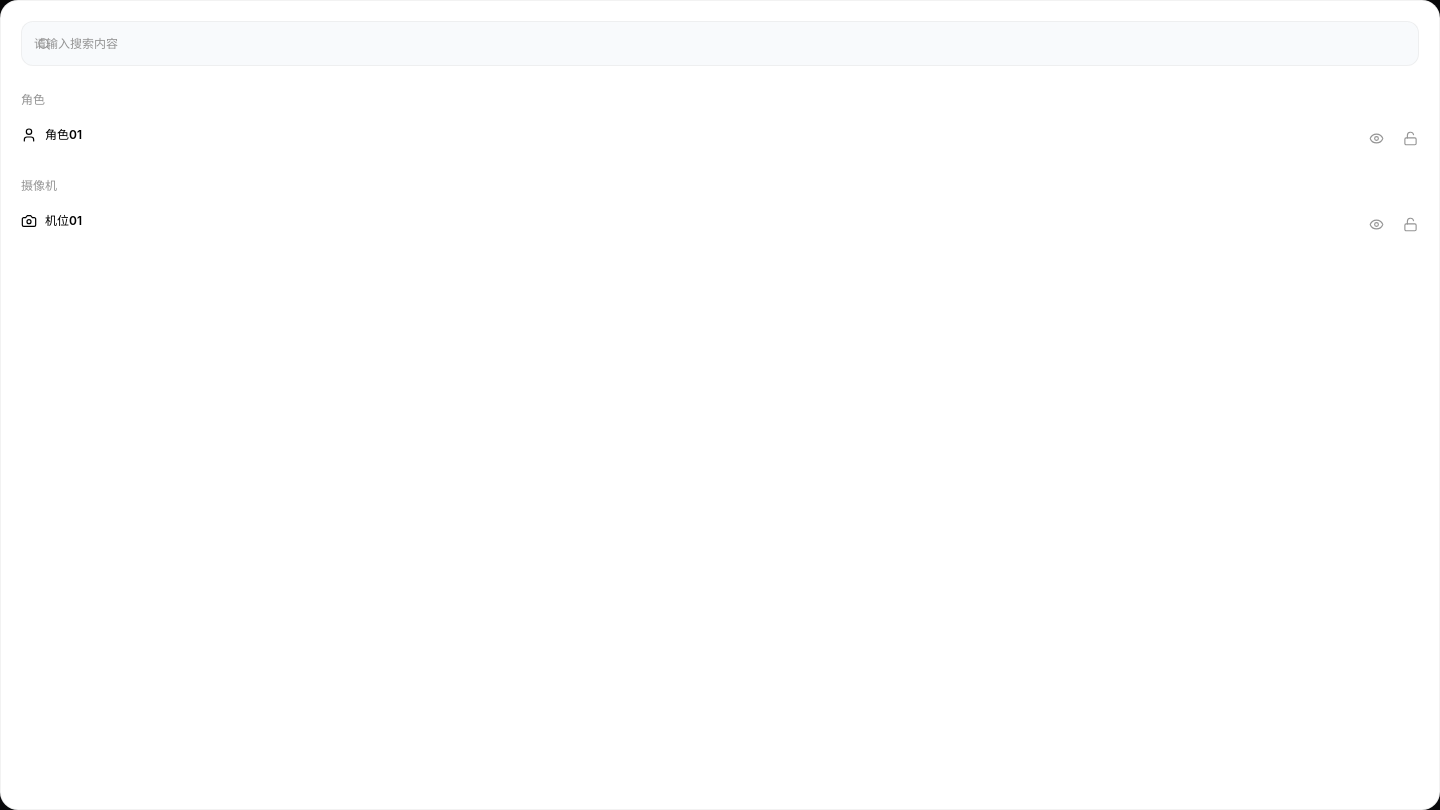
filters the object tree by keyword
The width and height of the screenshot is (1440, 810).
Type "机位" into the field named "搜索场景内容" at (720, 44), box [21,21,1419,66]
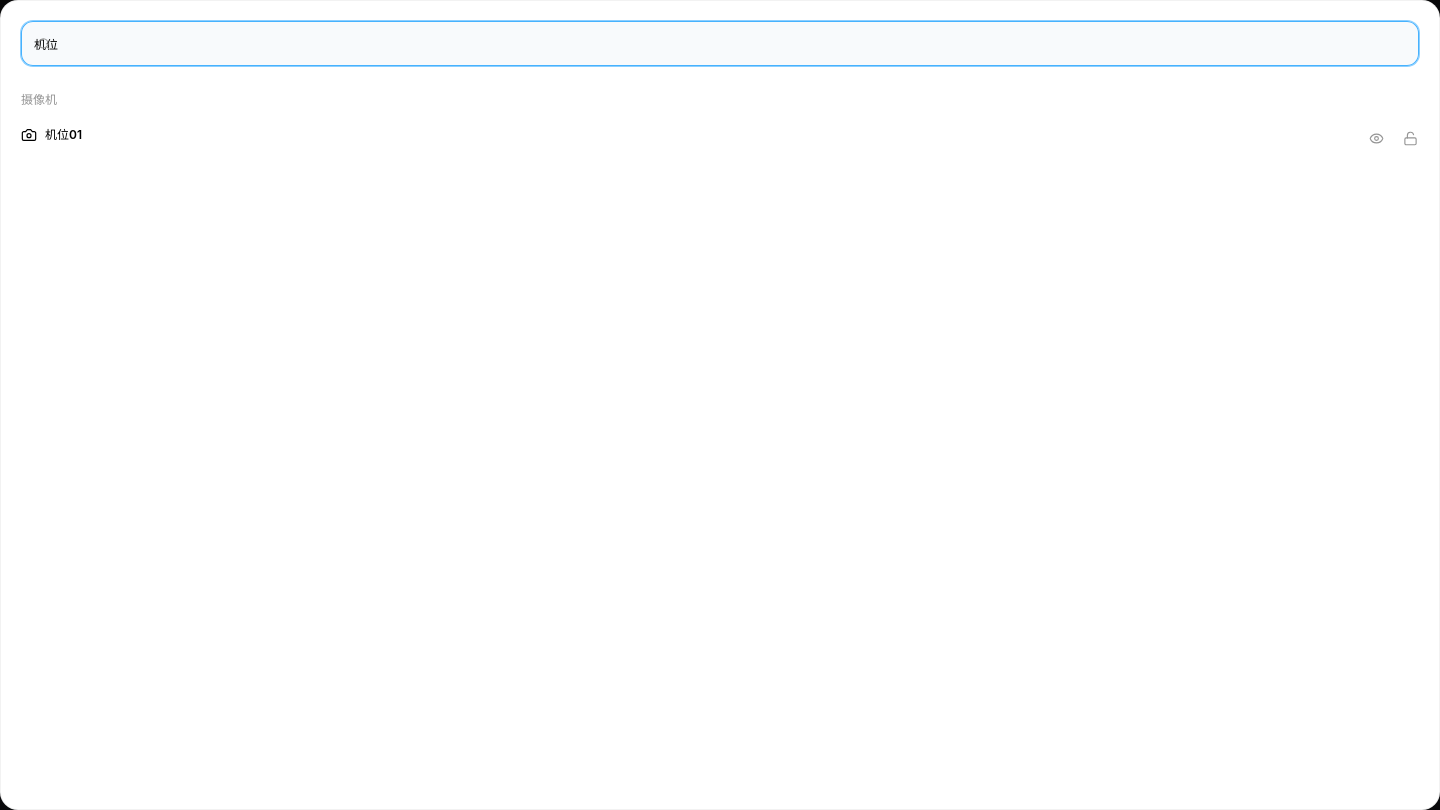
Check: the button "机位01" is shown, box [21,126,82,143]
Check: the button "角色01" is gone
